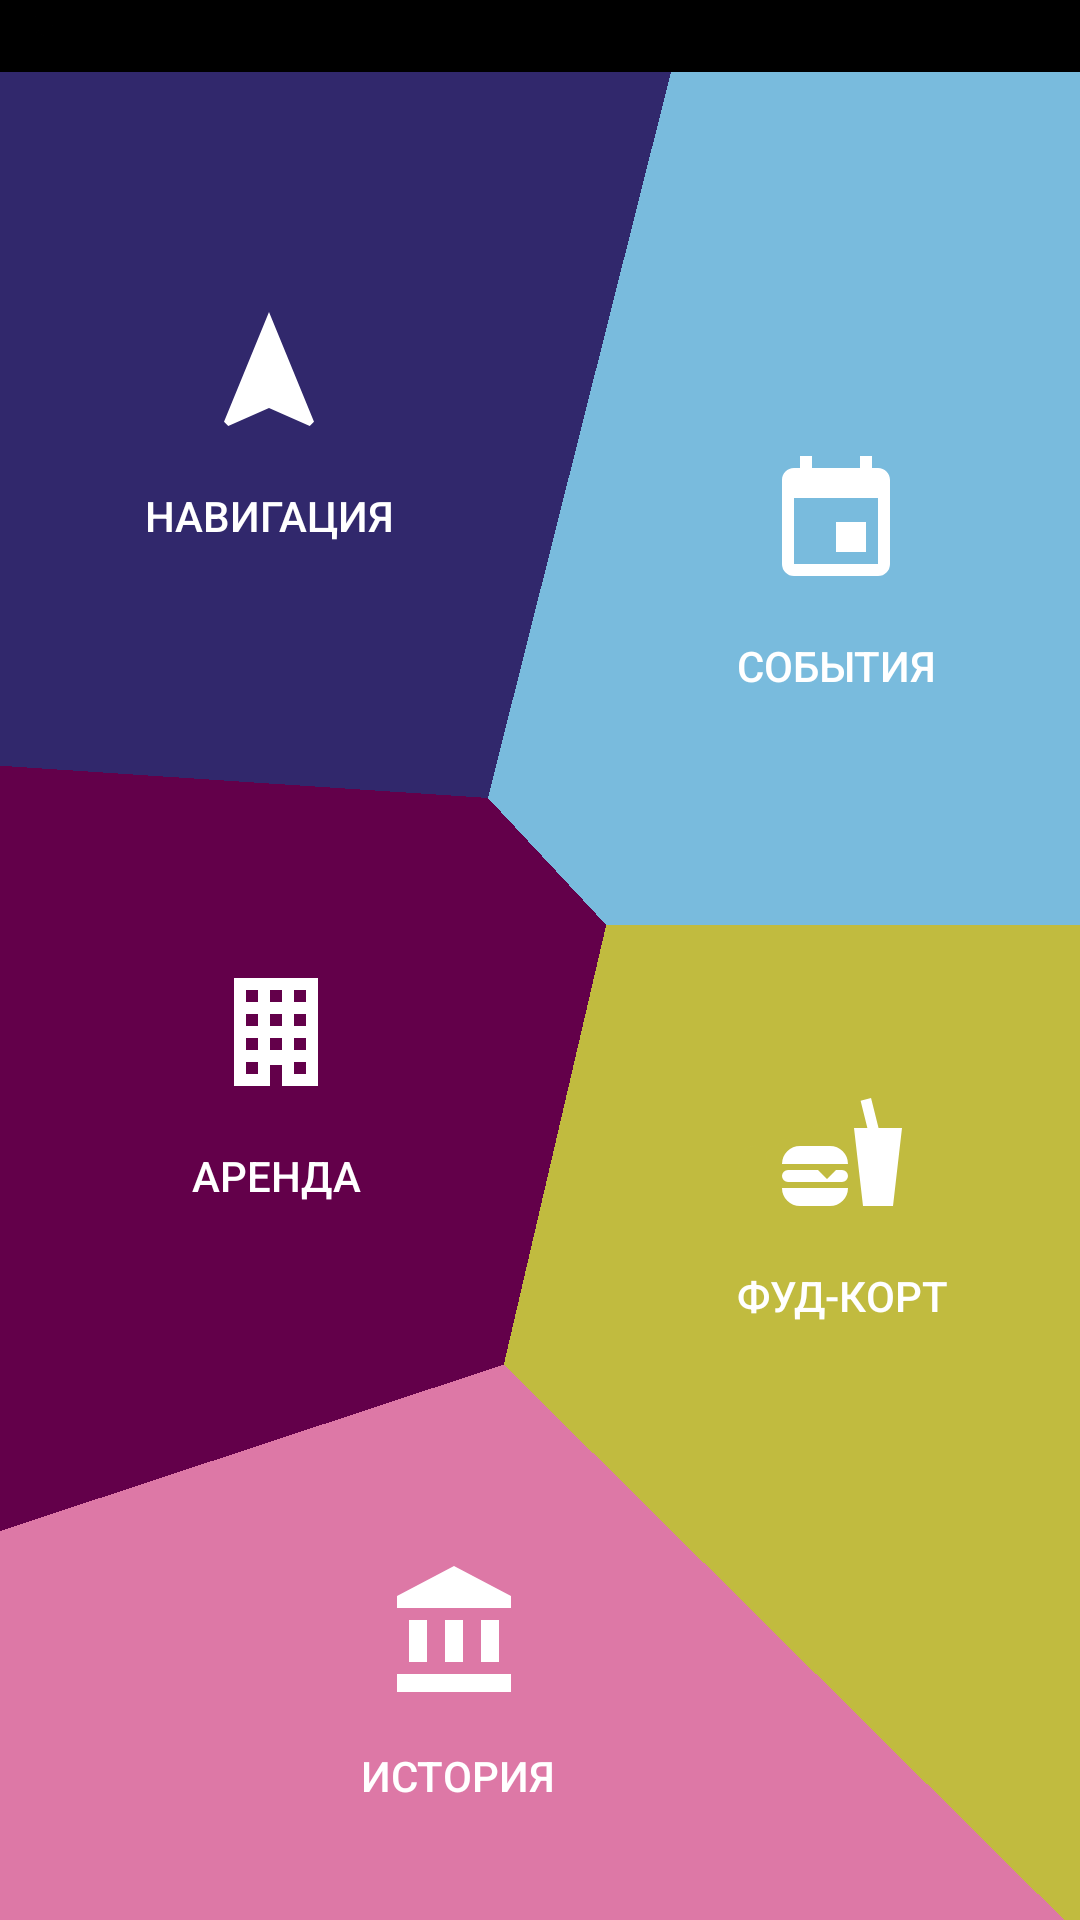

Named icons in this screenshot (1080w x 1920h) and their bounding boxes, (x1, y1, x2, y2):
bank: (397, 1566, 511, 1692)
calendar: (782, 456, 890, 576)
food: (782, 1098, 902, 1206)
navigation: (224, 312, 314, 426)
office building: (234, 978, 318, 1086)
